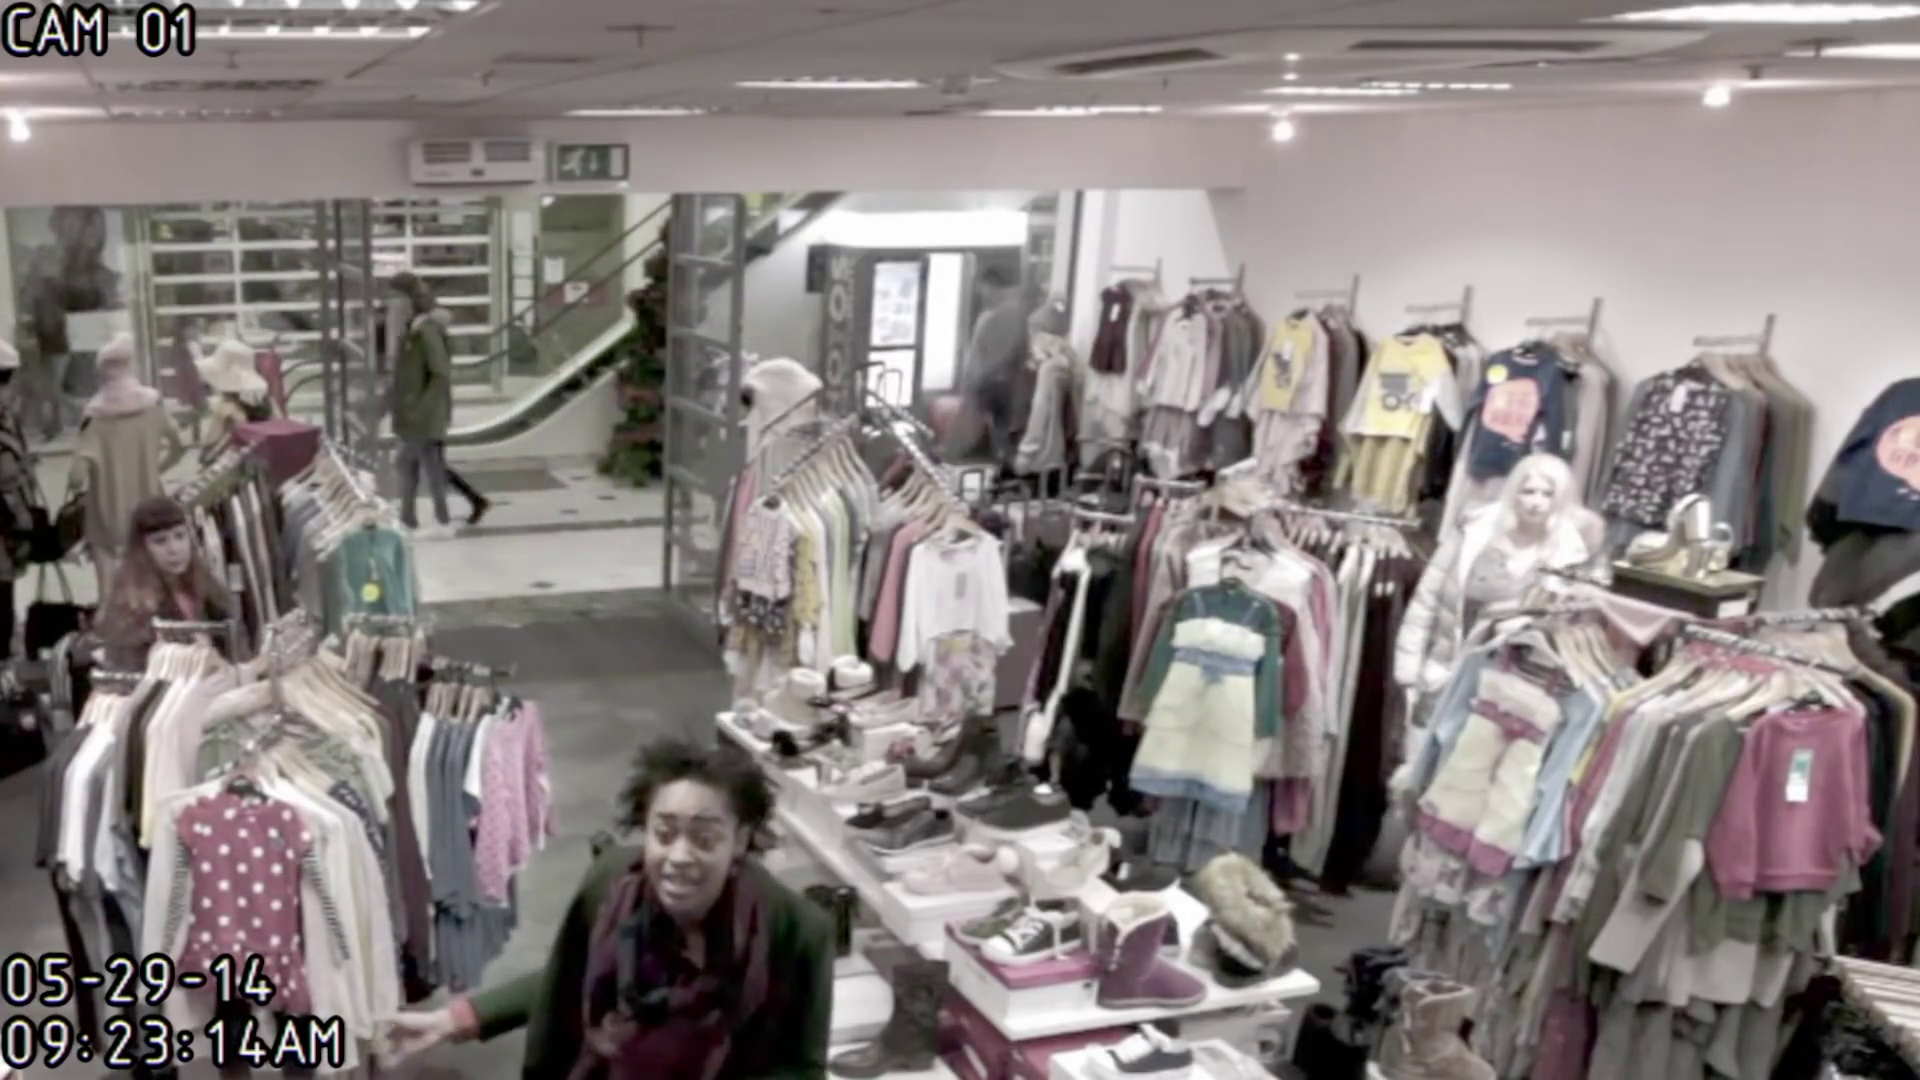face: (641, 782, 735, 917), (1502, 474, 1562, 527), (145, 521, 195, 581)
